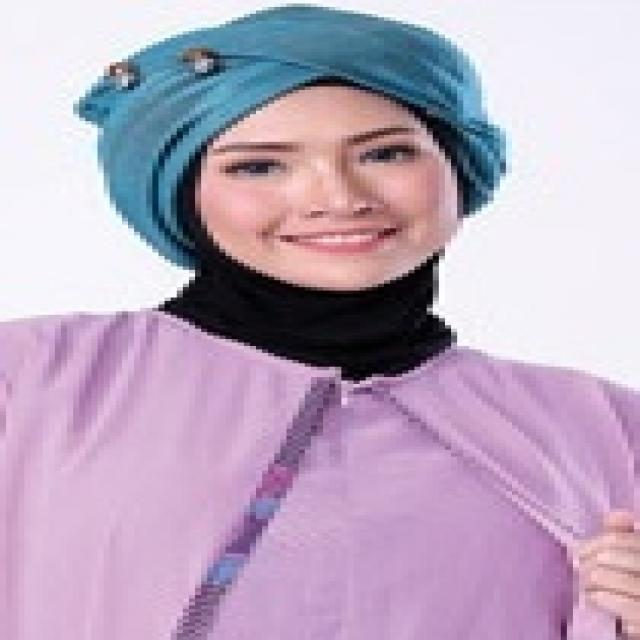head: (89, 27, 531, 304)
